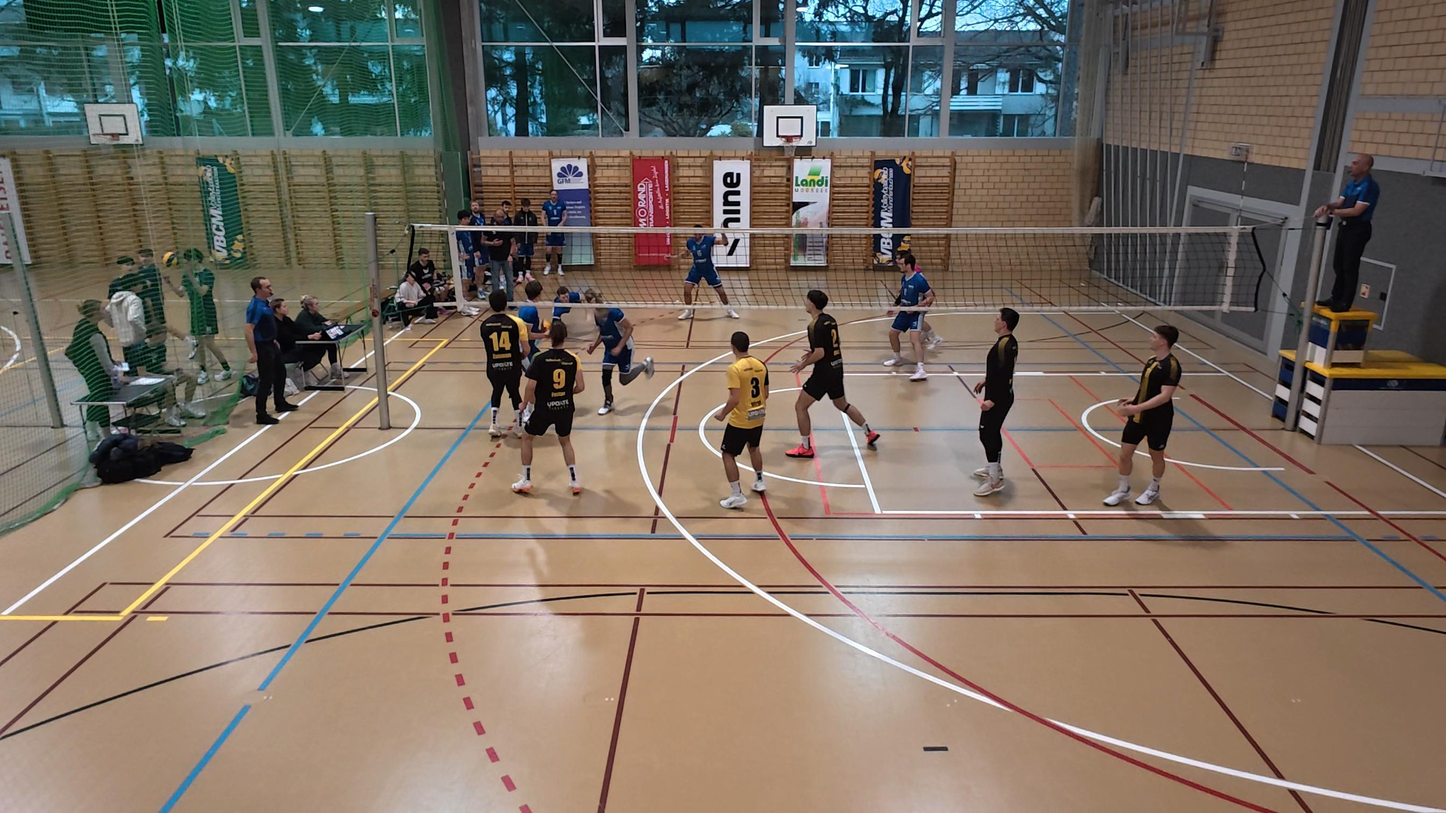difesa: (547, 275, 588, 337)
